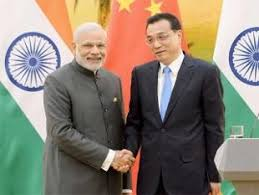Bad: (43, 11, 225, 195)
